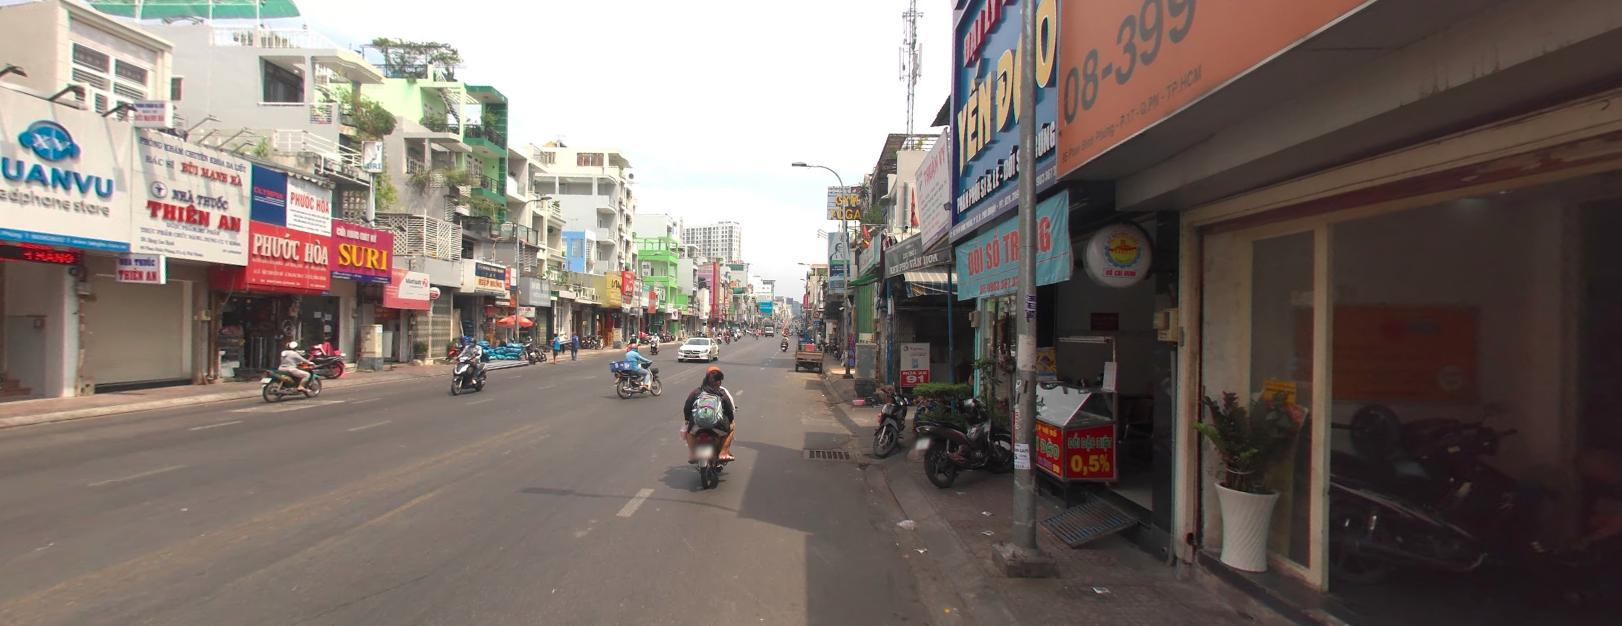Cam con lai: (812, 309, 819, 315)
